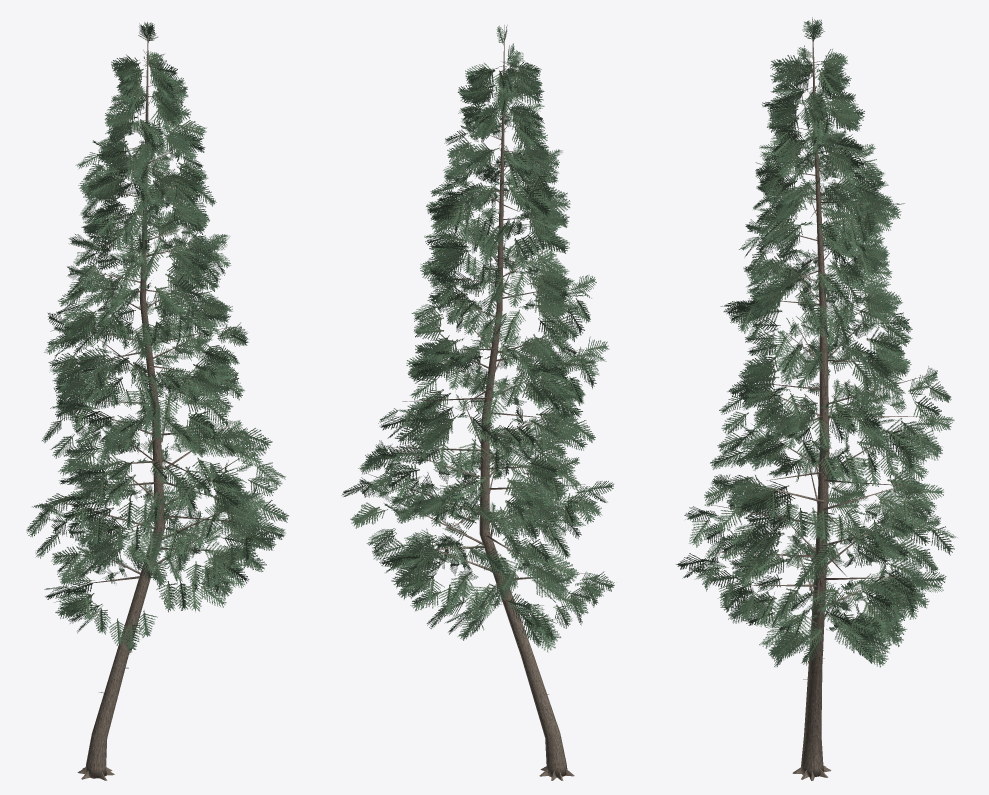
The model's file is SS_Defect_Bent_Young_02_LOD2.fbx.
The picture shows the model from 3 angles, left to right: view 1: azimuth 30°, elevation 25°; view 2: azimuth 150°, elevation 25°; view 3: azimuth 270°, elevation 25°; orthographic projection. The views are drawn at different scales.
Visible parts, largest first — view 1: SS_Defect_Bent_Young_02_LOD2_Foliage, SS_Defect_Bent_Young_02_LOD2_Trunk, SS_Defect_Bent_Young_02_LOD2_Branches; view 2: SS_Defect_Bent_Young_02_LOD2_Foliage, SS_Defect_Bent_Young_02_LOD2_Trunk, SS_Defect_Bent_Young_02_LOD2_Branches; view 3: SS_Defect_Bent_Young_02_LOD2_Foliage, SS_Defect_Bent_Young_02_LOD2_Trunk, SS_Defect_Bent_Young_02_LOD2_Branches.
Boxes of the visible parts, x1,y1,x2,y2 form: SS_Defect_Bent_Young_02_LOD2_Foliage: (26,22,288,654); SS_Defect_Bent_Young_02_LOD2_Trunk: (77,22,165,780); SS_Defect_Bent_Young_02_LOD2_Branches: (47,58,257,693); SS_Defect_Bent_Young_02_LOD2_Foliage: (341,25,614,652); SS_Defect_Bent_Young_02_LOD2_Trunk: (479,25,574,780); SS_Defect_Bent_Young_02_LOD2_Branches: (367,63,586,694); SS_Defect_Bent_Young_02_LOD2_Foliage: (676,19,957,667); SS_Defect_Bent_Young_02_LOD2_Trunk: (792,17,831,780); SS_Defect_Bent_Young_02_LOD2_Branches: (707,59,929,679).
Bounding box in the file's own units: 418 × 1100 × 400.
